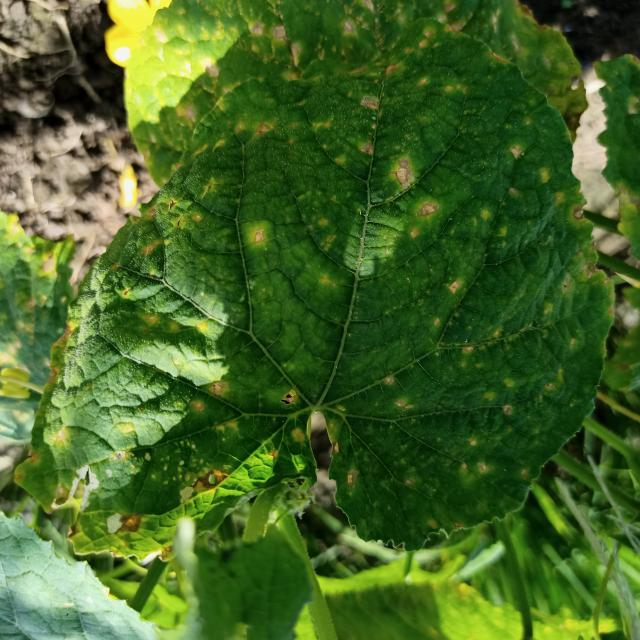disease_cucumber: (53, 27, 586, 529)
